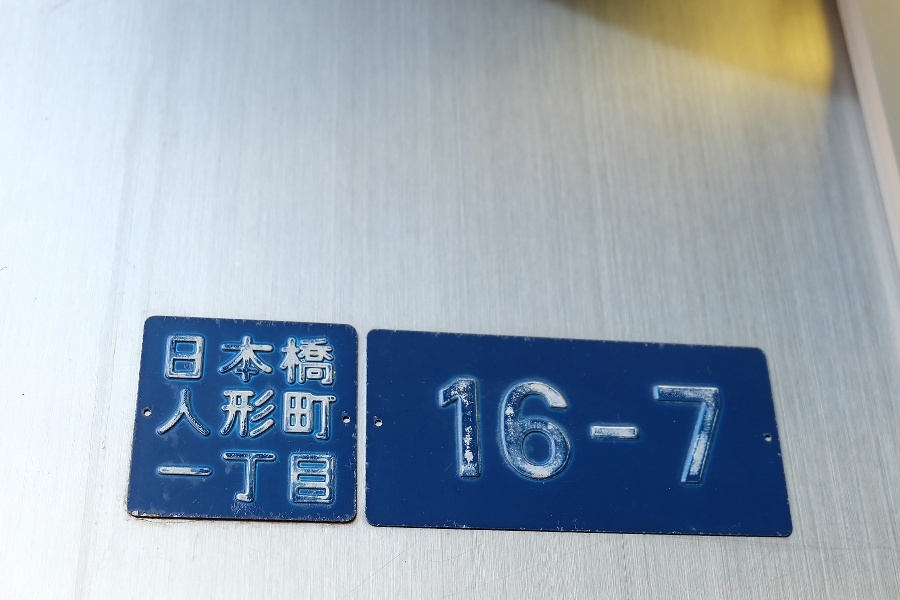text: (449, 379, 464, 485), (465, 379, 480, 485), (481, 379, 496, 485), (497, 379, 512, 485), (513, 379, 528, 485), (529, 379, 544, 485), (545, 379, 560, 485), (561, 379, 576, 485), (577, 379, 592, 485), (593, 379, 608, 485), (609, 379, 624, 485), (625, 379, 640, 485), (641, 379, 656, 485), (657, 379, 672, 485), (673, 379, 688, 485), (689, 379, 704, 485), (705, 379, 720, 485), (440, 379, 448, 485), (161, 450, 176, 506), (177, 450, 192, 506), (193, 450, 208, 506), (209, 450, 224, 506), (225, 450, 240, 506), (241, 450, 256, 506), (257, 450, 272, 506), (273, 450, 288, 506), (289, 450, 304, 506), (305, 450, 320, 506), (321, 450, 336, 506), (321, 390, 337, 442), (177, 334, 192, 387), (193, 334, 208, 387), (209, 334, 224, 387), (225, 334, 240, 387), (241, 334, 256, 387), (257, 334, 272, 387), (273, 334, 288, 387), (289, 334, 304, 387), (305, 334, 320, 387), (177, 390, 192, 442), (193, 390, 208, 442), (209, 390, 224, 442), (225, 390, 240, 442), (241, 390, 256, 442), (257, 390, 272, 442), (273, 390, 288, 442), (289, 390, 304, 442), (305, 390, 320, 442), (321, 334, 335, 387), (721, 379, 728, 485), (163, 390, 176, 442), (167, 334, 176, 387)
